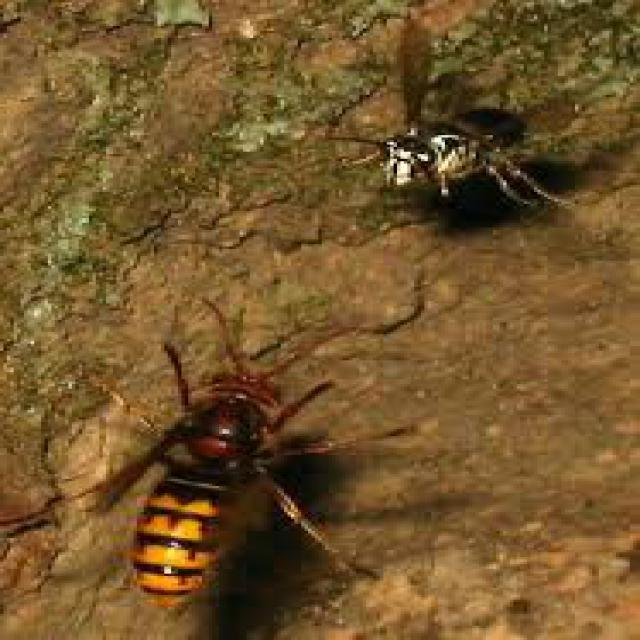Vespa Crabro: (63, 286, 408, 610)
